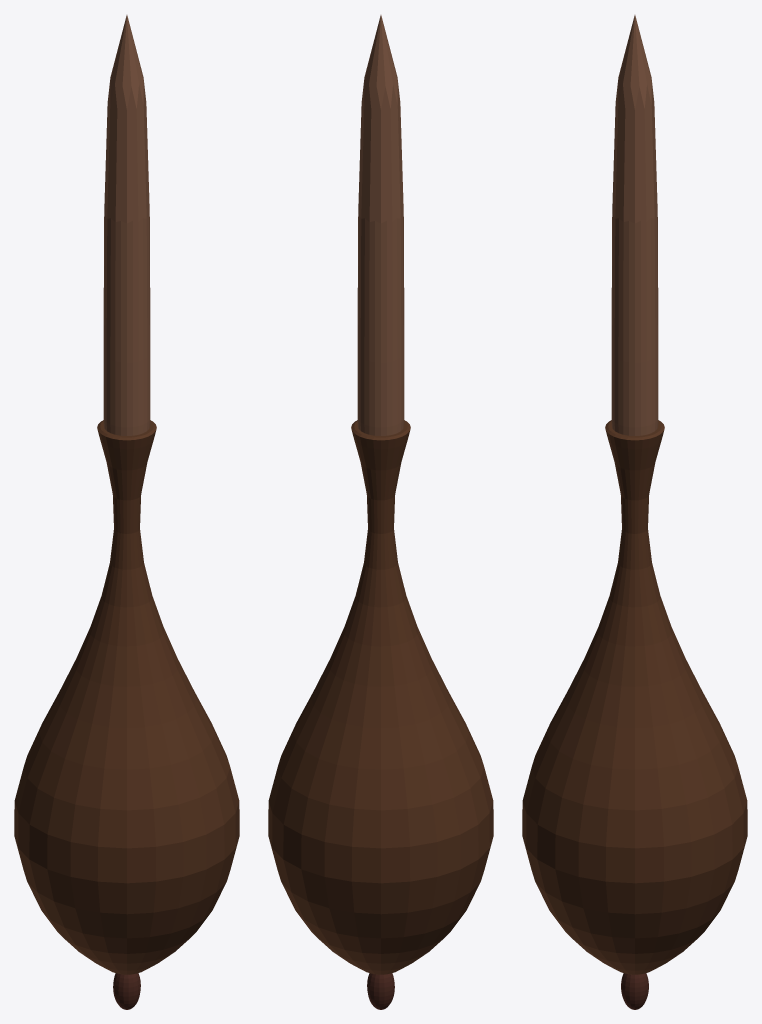
File: Wand 906.glb
3 views of the same model, side by side, from view 1: azimuth 30°, elevation 25°; view 2: azimuth 150°, elevation 25°; view 3: azimuth 270°, elevation 25° (orthographic).
Parts seen in each view (by area): view 1: GeneratedWand; view 2: GeneratedWand; view 3: GeneratedWand.
Boxes of the visible parts, left/top/right/bottom form: GeneratedWand: left=14, top=15, right=239, bottom=1009; GeneratedWand: left=268, top=15, right=493, bottom=1009; GeneratedWand: left=522, top=15, right=747, bottom=1009.
Bounding box in the file's own units: 0.1026 × 0.4995 × 0.1026.
